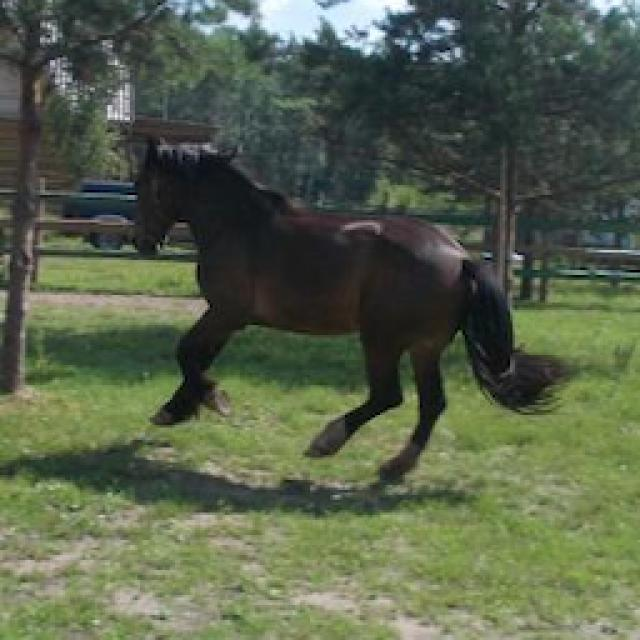Horse: (115, 128, 578, 490)
